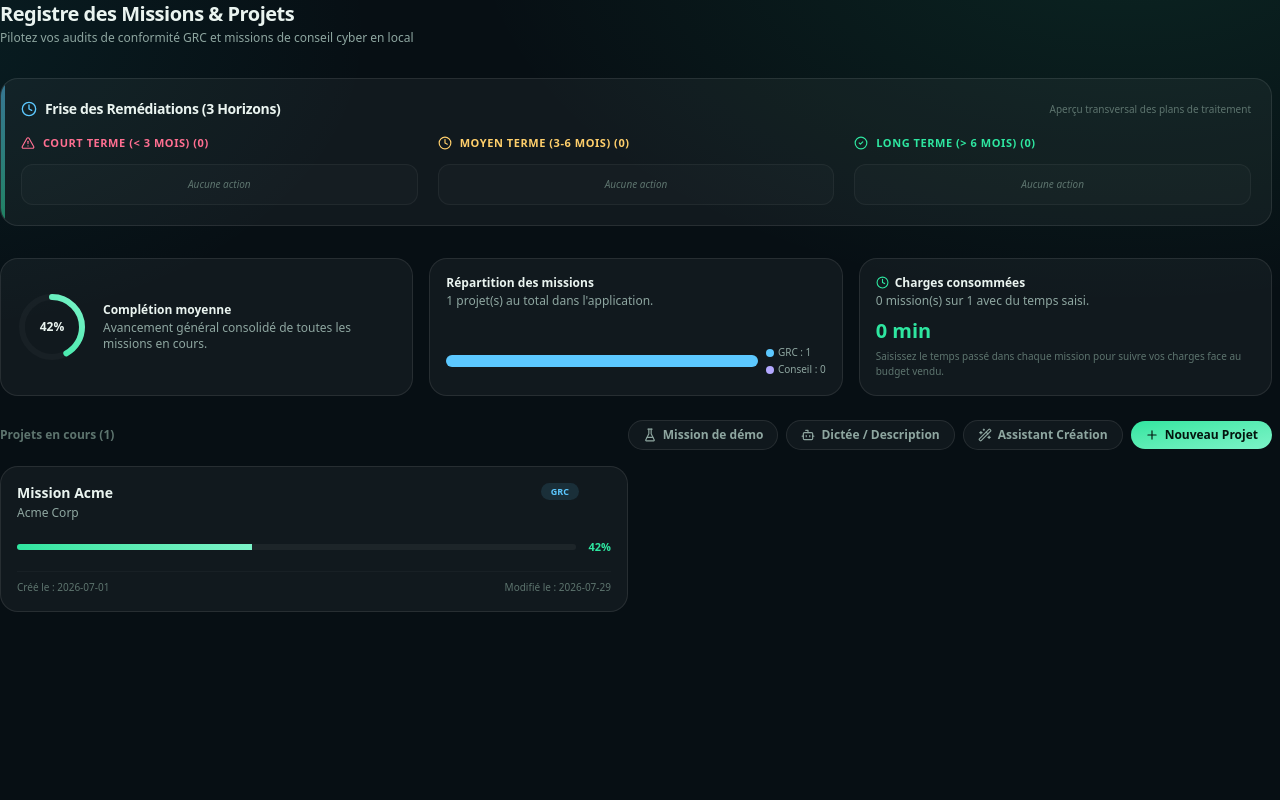
Test: Projects — caractérisation avant découpage › phase 6 — affiche le plan de remédiation et le copilote
Click the heading "Mission Acme": coordinates (65, 492) [17,482,113,502]
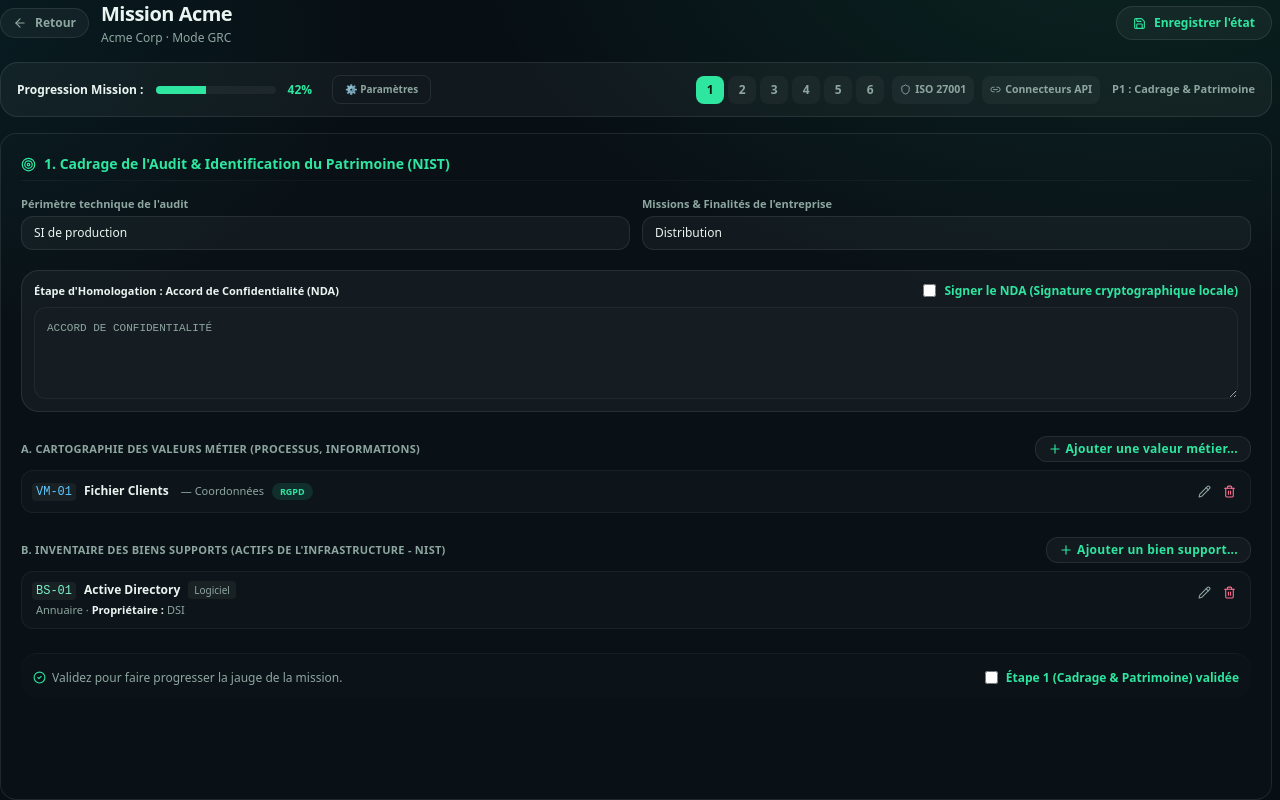
Expected: the text "Progression Mission :" is shown, [17,82,144,98]
Click the button "6": coordinates (870, 90) [856,76,884,104]
(page scrolled)
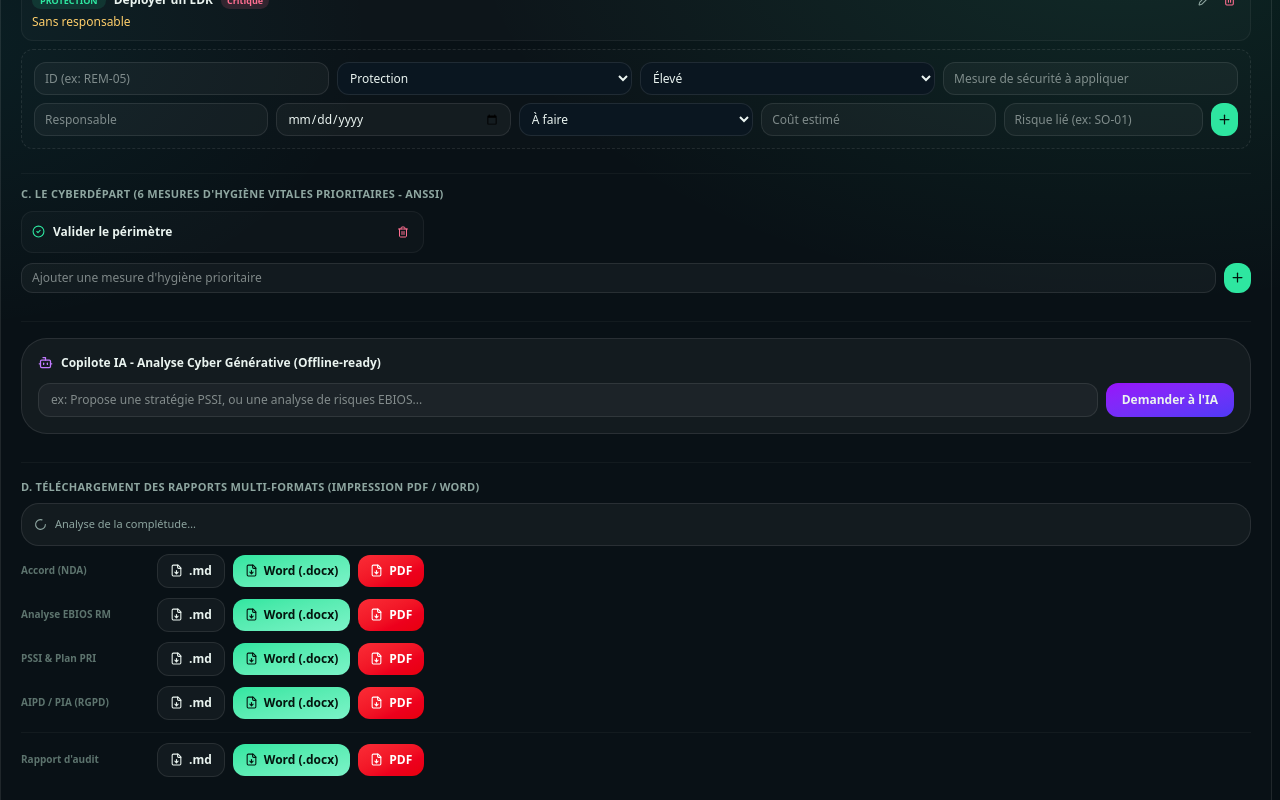
Expected: the field with placeholder "stratégie PSSI" is shown, [38,382,1098,416]
